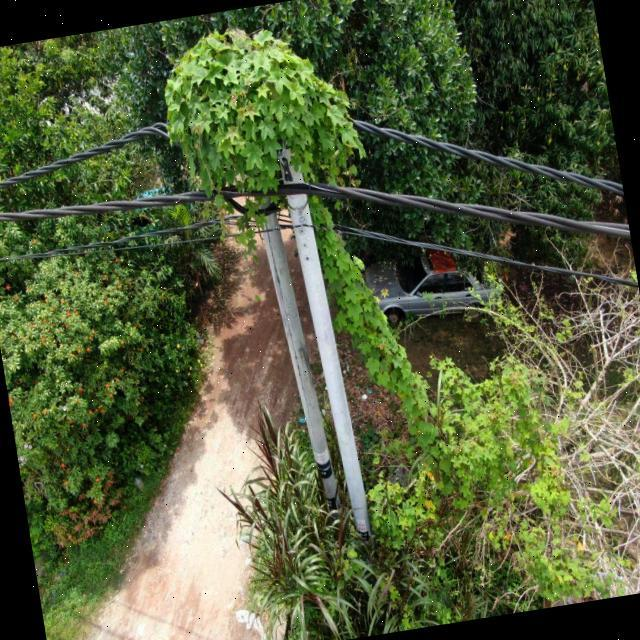critical vegetation: (296, 176, 469, 501), (134, 7, 366, 204)
